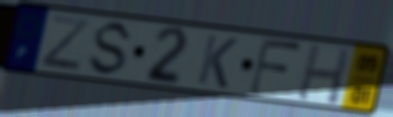2: (144, 24, 190, 88)
F: (246, 36, 305, 98)
H: (294, 42, 353, 107)
K: (194, 32, 241, 91)
S: (85, 19, 136, 78)
Z: (39, 14, 93, 74)
